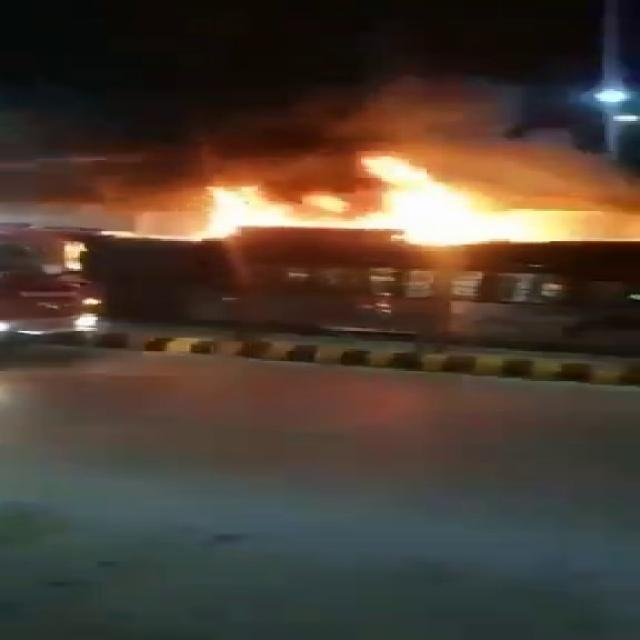Fire: (207, 156, 640, 250)
